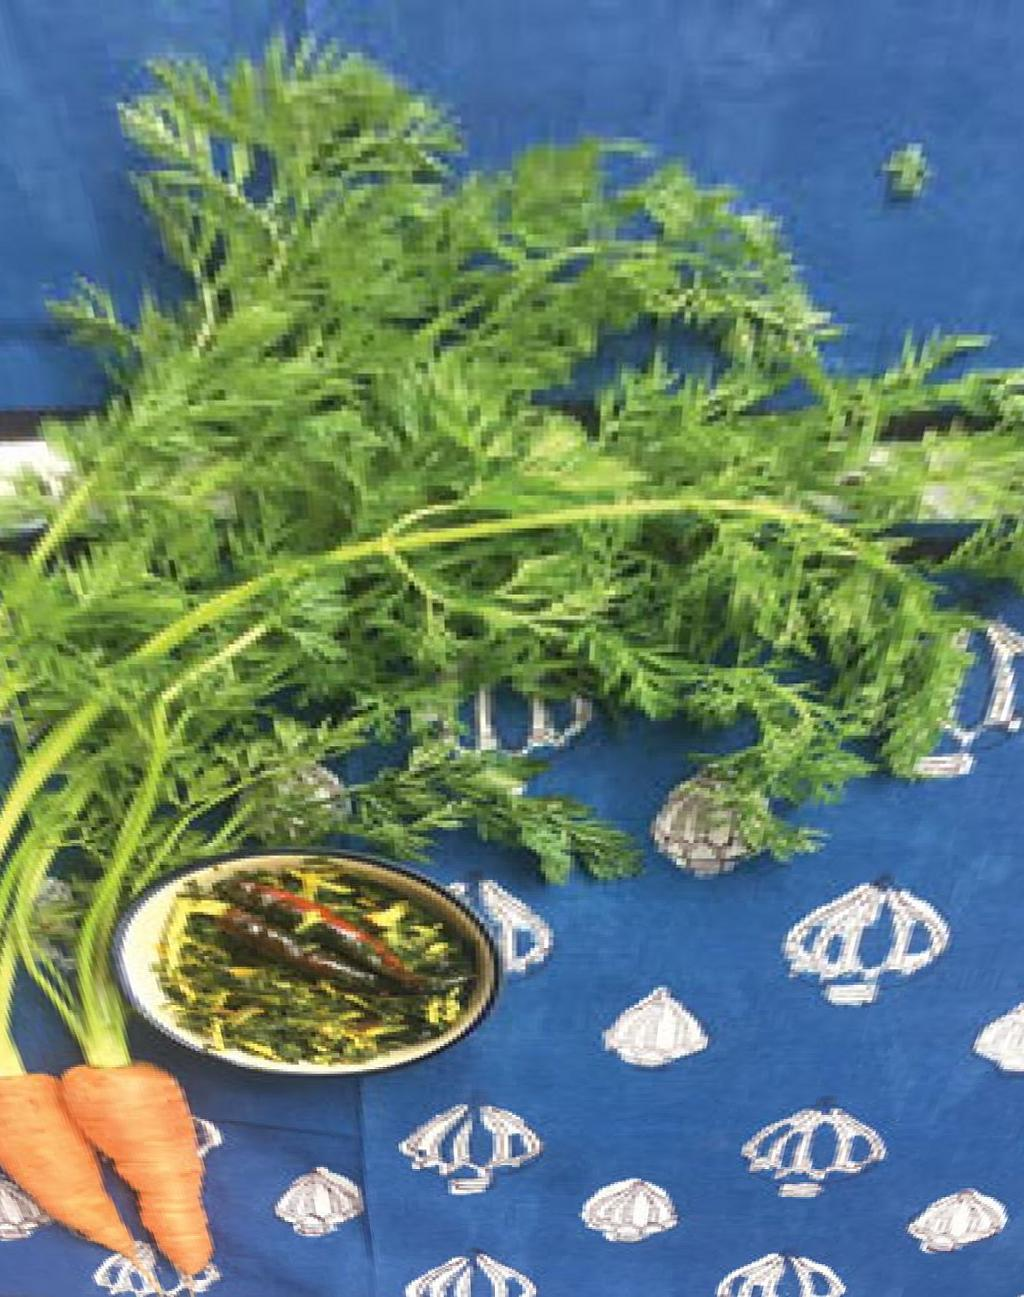carrot: (0, 992, 242, 1276)
